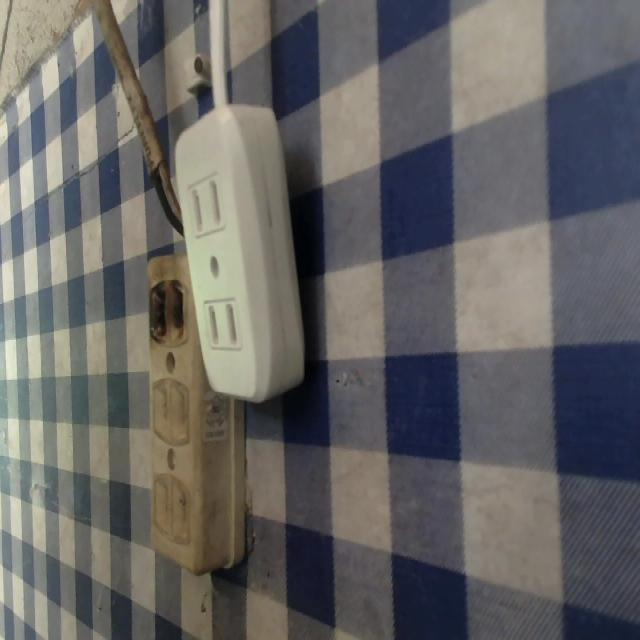-: (134, 265, 197, 363)
